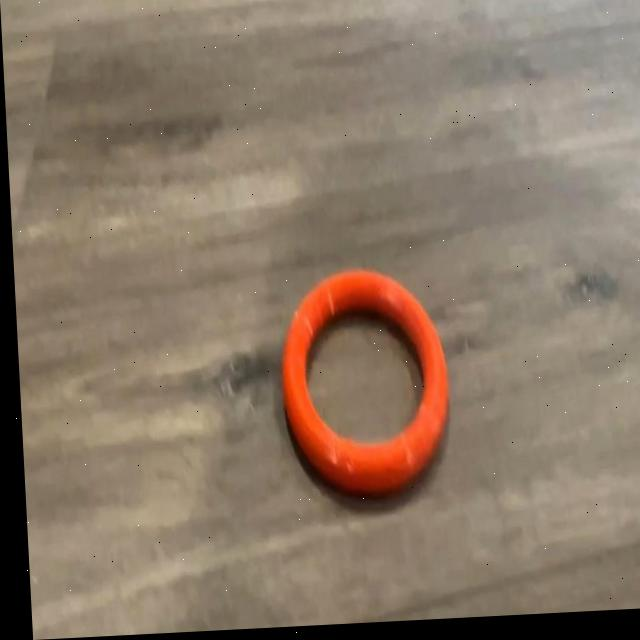note: (273, 267, 450, 503)
